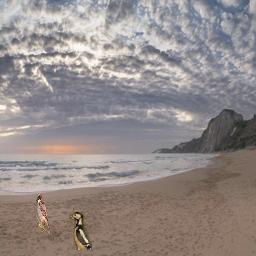Sparrow: (36, 194, 51, 234)
Woodpecker: (69, 212, 92, 250)
